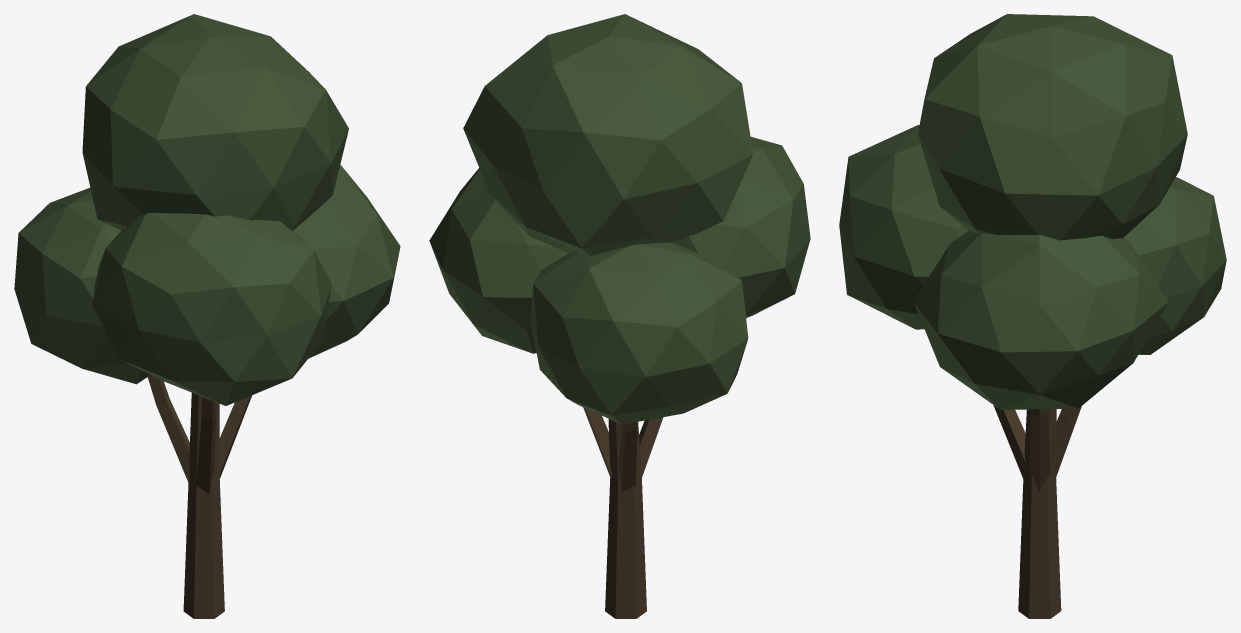
File: flora_broad.glb
The picture shows the model from 3 angles, left to right: view 1: azimuth 30°, elevation 25°; view 2: azimuth 150°, elevation 25°; view 3: azimuth 270°, elevation 25°; orthographic projection. The views are drawn at different scales.
Parts seen in each view (by area): view 1: FLORA_BroadCrown, FLORA_BroadTrunk; view 2: FLORA_BroadCrown, FLORA_BroadTrunk; view 3: FLORA_BroadCrown, FLORA_BroadTrunk.
Part boxes in pixels (box(x1,y1,x2,y2)): FLORA_BroadCrown: box(14, 14, 400, 405); FLORA_BroadTrunk: box(147, 375, 251, 618); FLORA_BroadCrown: box(429, 14, 810, 424); FLORA_BroadTrunk: box(583, 407, 663, 618); FLORA_BroadCrown: box(839, 14, 1226, 409); FLORA_BroadTrunk: box(993, 405, 1081, 618).
Size of the model in its own units: 17.54 by 30 by 17.85.
